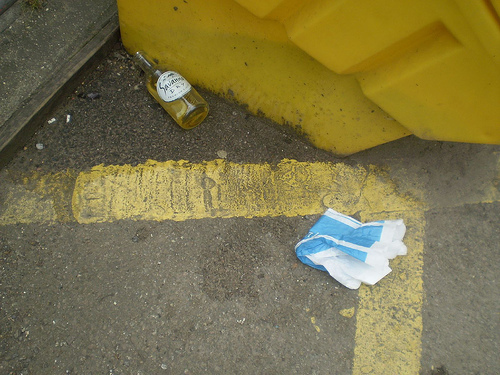litter: (294, 208, 408, 290), (130, 50, 209, 130)
